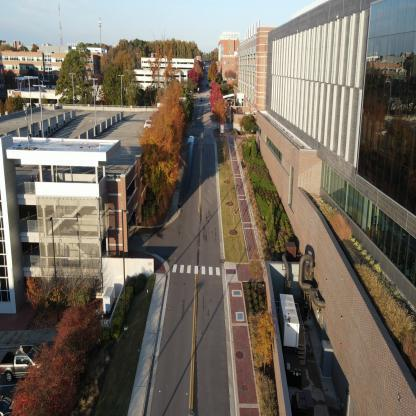EB-1: (230, 22, 266, 136)
Fitts- Woolard: (272, 19, 415, 415)
